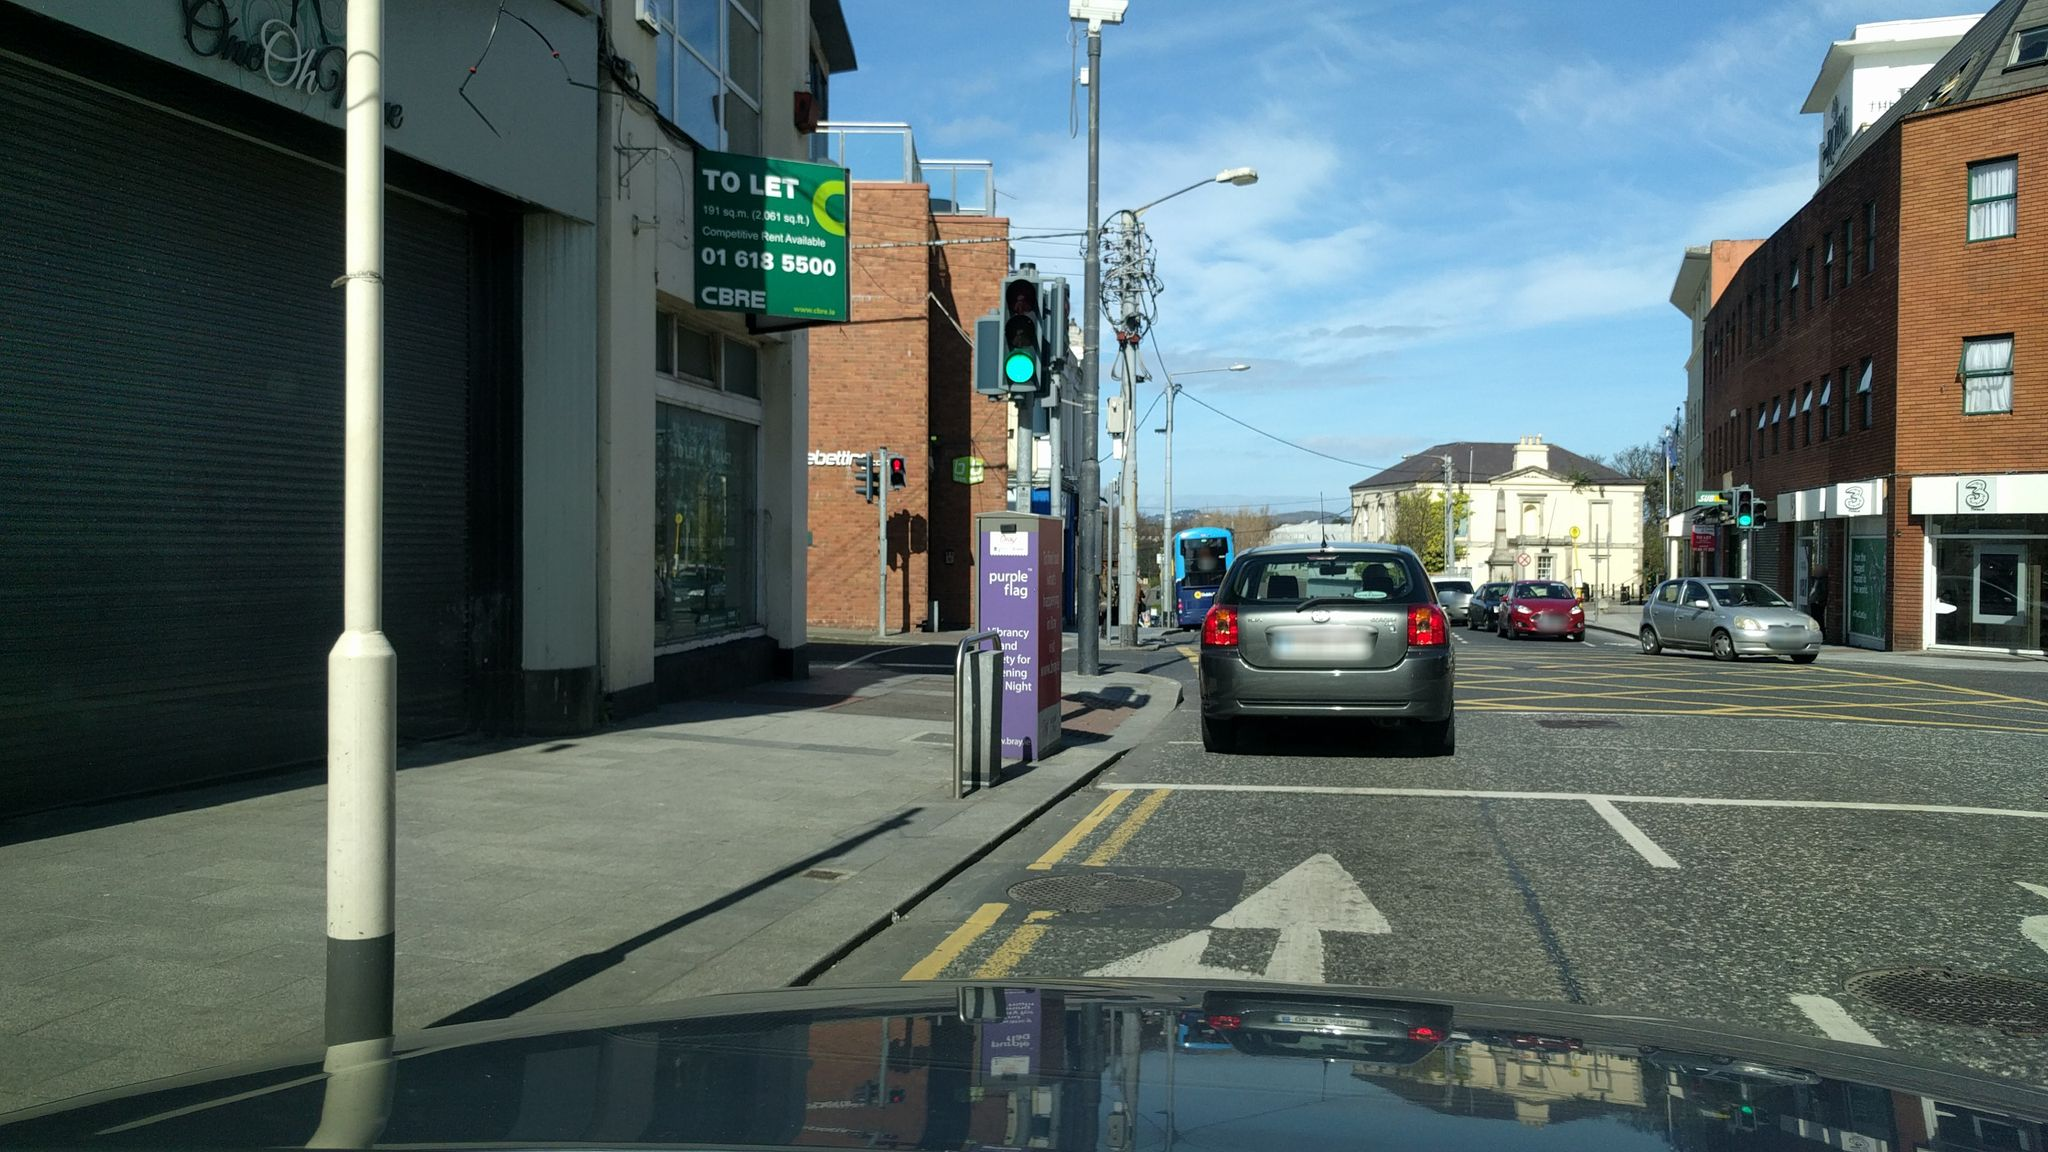property sign: (684, 136, 873, 335)
